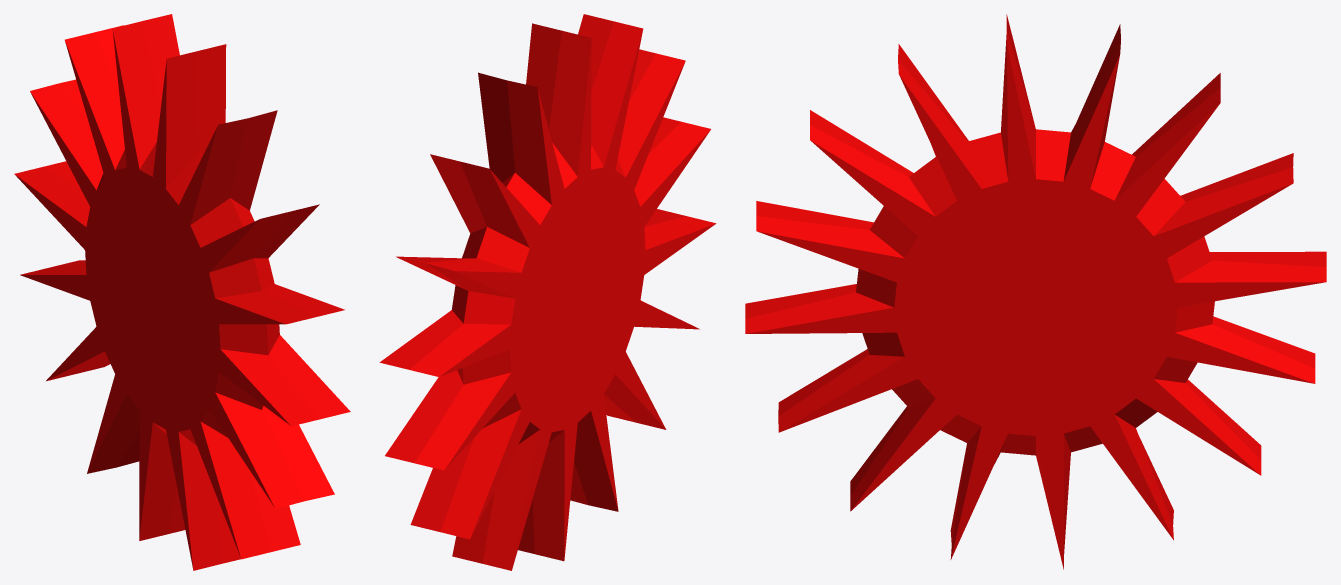
Rendered from saw.fbx.
3 views of the same model, side by side, from view 1: azimuth 30°, elevation 25°; view 2: azimuth 150°, elevation 25°; view 3: azimuth 270°, elevation 25° (orthographic). The views are drawn at different scales.
Visible parts, largest first — view 1: Saw; view 2: Saw; view 3: Saw.
Part boxes in pixels (x1=…): Saw: x1=14, y1=14, x2=350, y2=570; Saw: x1=379, y1=14, x2=716, y2=570; Saw: x1=745, y1=14, x2=1326, y2=569.
Bounding box in the file's own units: 40 × 323 × 323.
